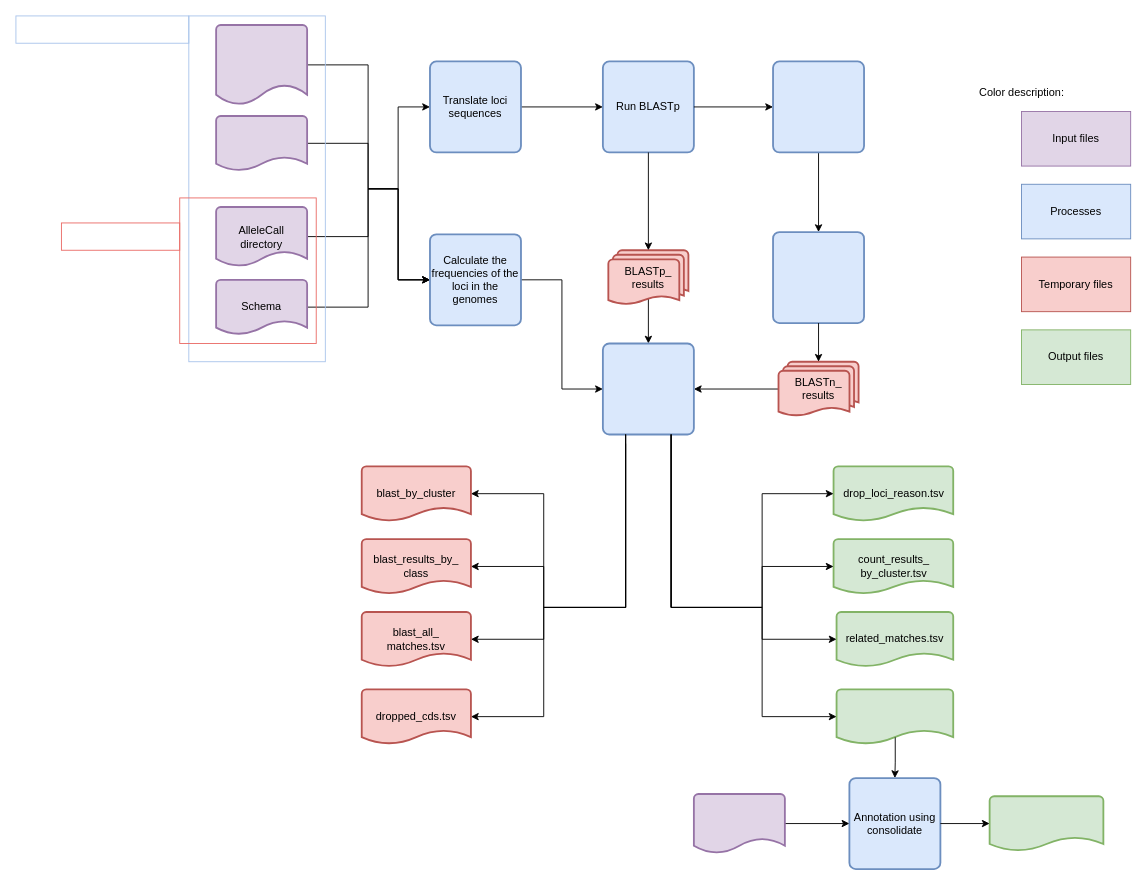
This 1147x885 diagram has some shape labels left out. The centre of each missing label's shape, as x and y in pixels:
"AlleleCall directory for second schema" belongs at (261,64).
"Process, extract and write results" belongs at (648,388).
"recommendations _annotations.tsv" belongs at (1046,823).
"recommendations.tsv" belongs at (894,716).
"Run BLASTn" belongs at (818,277).
"Run_mode schema" belongs at (120,236).
"Run_mode schema_vs_schema" belongs at (102,29).
"Second Schema" belongs at (261,143).
"Select unmatched loci (DNA sequence)" belongs at (818,106).
"TSV annotation files" belongs at (739,823).
